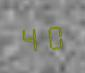four: (19, 22, 41, 53)
zero: (42, 20, 64, 51)
